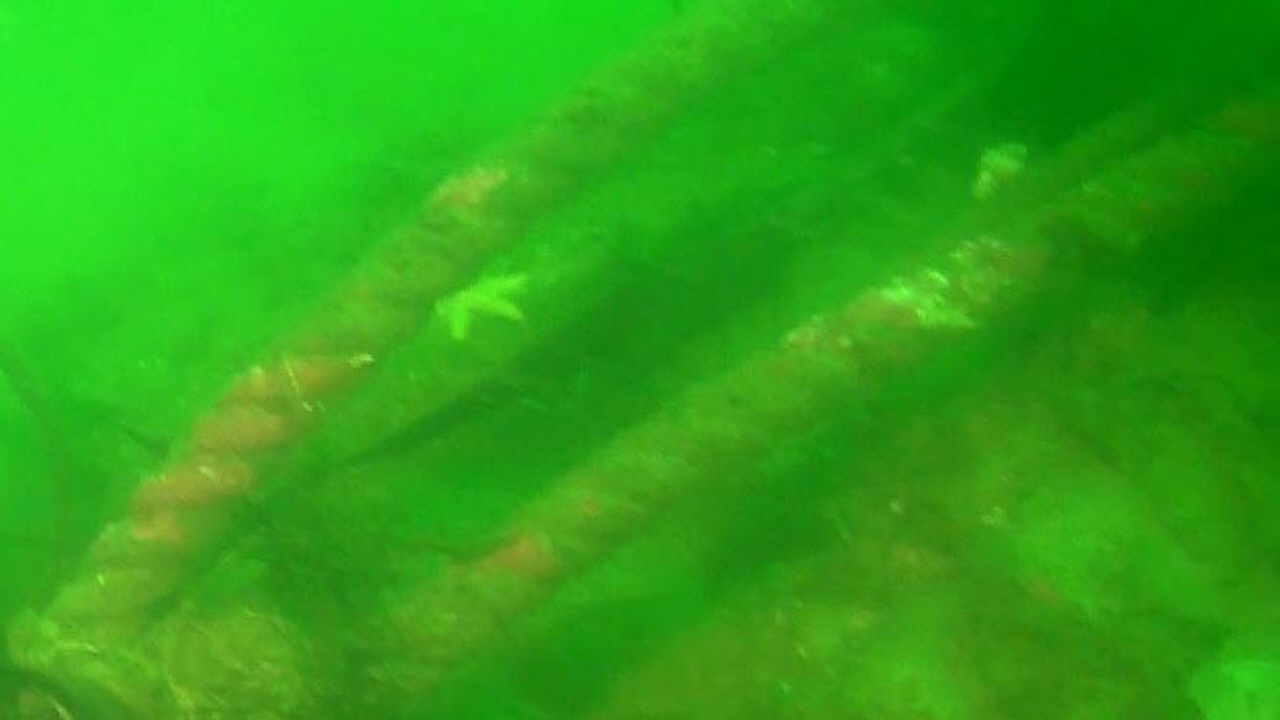bundle of ropes: (38, 0, 1280, 621)
